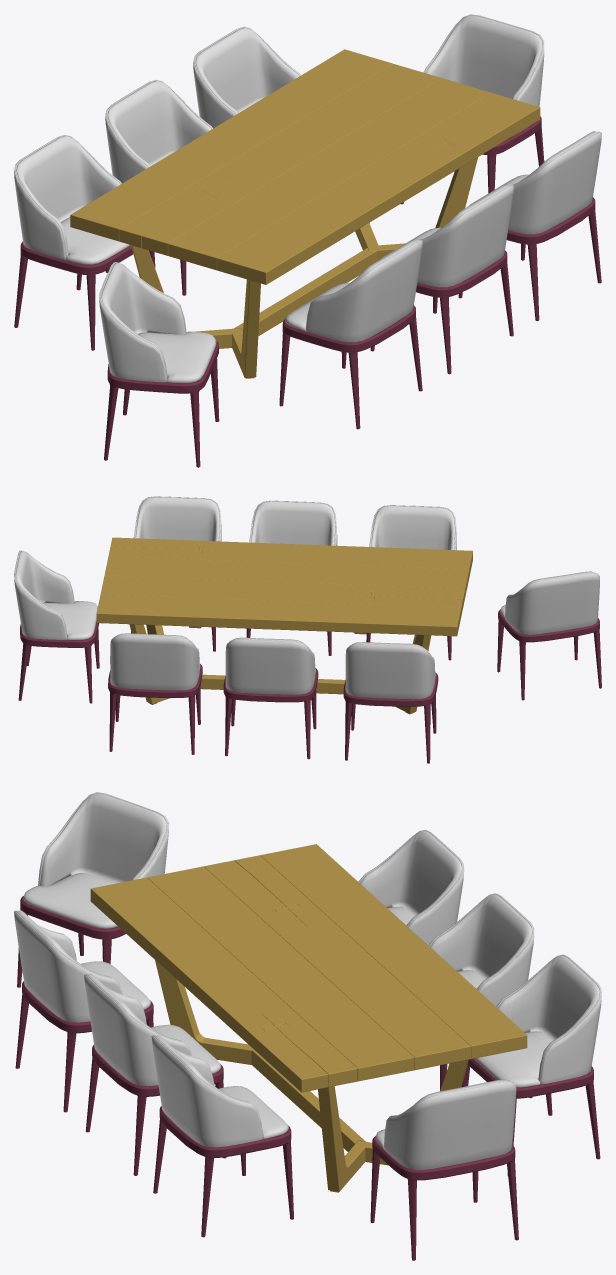
Rendered from Dining set 4.fbx.
3 renders of one model, top to bottom at view 1: azimuth 30°, elevation 25°; view 2: azimuth 150°, elevation 25°; view 3: azimuth 270°, elevation 25°, orthographic. The views are drawn at different scales.
Parts seen in each view (by area): view 1: JADA COFFE TABLE 521.026-SE, Armchair_Damble_back006, Armchair_Damble_back003, Armchair_Damble_back007, Armchair_Damble_back, Armchair_Damble_back004, Armchair_Damble_back005, Armchair_Damble_back001, Armchair_Damble_back002, Armchair_Damble_legs, Armchair_Damble_legs006, Armchair_Damble_legs003 (+3 smaller); view 2: JADA COFFE TABLE 521.026-SE, Armchair_Damble_back007, Armchair_Damble_back006, Armchair_Damble_back004, Armchair_Damble_back005, Armchair_Damble_back003, Armchair_Damble_back002, Armchair_Damble_back001, Armchair_Damble_back, Armchair_Damble_legs006, Armchair_Damble_legs004, Armchair_Damble_legs003 (+2 smaller); view 3: JADA COFFE TABLE 521.026-SE, Armchair_Damble_back006, Armchair_Damble_back005, Armchair_Damble_back007, Armchair_Damble_back002, Armchair_Damble_back003, Armchair_Damble_back004, Armchair_Damble_back, Armchair_Damble_back001, Armchair_Damble_legs007, Armchair_Damble_legs002, Armchair_Damble_legs (+3 smaller).
Boxes of the visible parts, x1,y1,x2,y2 form: JADA COFFE TABLE 521.026-SE: (70,49,540,378); Armchair_Damble_back006: (99,262,216,383); Armchair_Damble_back003: (14,135,130,264); Armchair_Damble_back007: (423,14,544,135); Armchair_Damble_back: (285,239,422,342); Armchair_Damble_back004: (105,79,212,183); Armchair_Damble_back005: (193,26,300,128); Armchair_Damble_back001: (380,184,513,287); Armchair_Damble_back002: (469,131,601,234); Armchair_Damble_legs: (279,305,422,428); Armchair_Damble_legs006: (104,340,219,467); Armchair_Damble_legs003: (14,241,155,350); JADA COFFE TABLE 521.026-SE: (96,537,472,714); Armchair_Damble_back007: (14,550,97,640); Armchair_Damble_back006: (500,571,599,634); Armchair_Damble_back004: (225,637,315,694); Armchair_Damble_back005: (110,633,200,690); Armchair_Damble_back003: (345,642,435,699); Armchair_Damble_back002: (133,496,221,541); Armchair_Damble_back001: (249,500,337,545); Armchair_Damble_back: (369,505,456,550); Armchair_Damble_legs006: (497,609,601,700); Armchair_Damble_legs004: (223,668,318,758); Armchair_Damble_legs003: (343,672,438,763); JADA COFFE TABLE 521.026-SE: (90,844,527,1192); Armchair_Damble_back006: (23,792,169,928); Armchair_Damble_back005: (474,954,601,1087); Armchair_Damble_back007: (375,1079,516,1169); Armchair_Damble_back002: (151,1035,288,1147); Armchair_Damble_back003: (358,830,464,945); Armchair_Damble_back004: (428,893,534,1006); Armchair_Damble_back: (14,910,151,1022); Armchair_Damble_back001: (84,974,221,1086); Armchair_Damble_legs007: (370,1136,518,1260); Armchair_Damble_legs002: (153,1106,293,1236); Armchair_Damble_legs: (15,981,153,1112).
Size of the model in its own units: 325 by 81.55 by 263.
